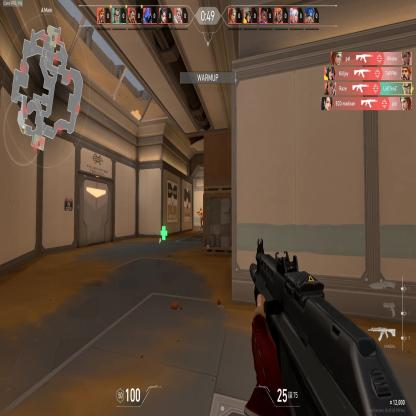enemy: (197, 206, 203, 230)
